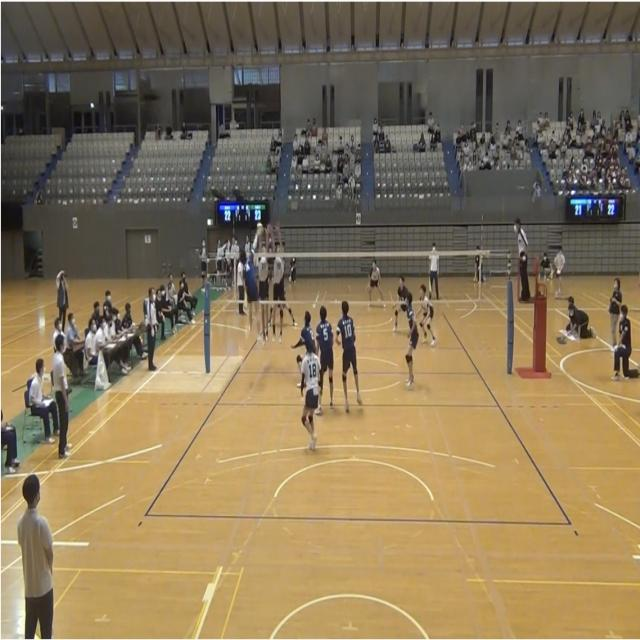spike: (235, 218, 268, 356)
